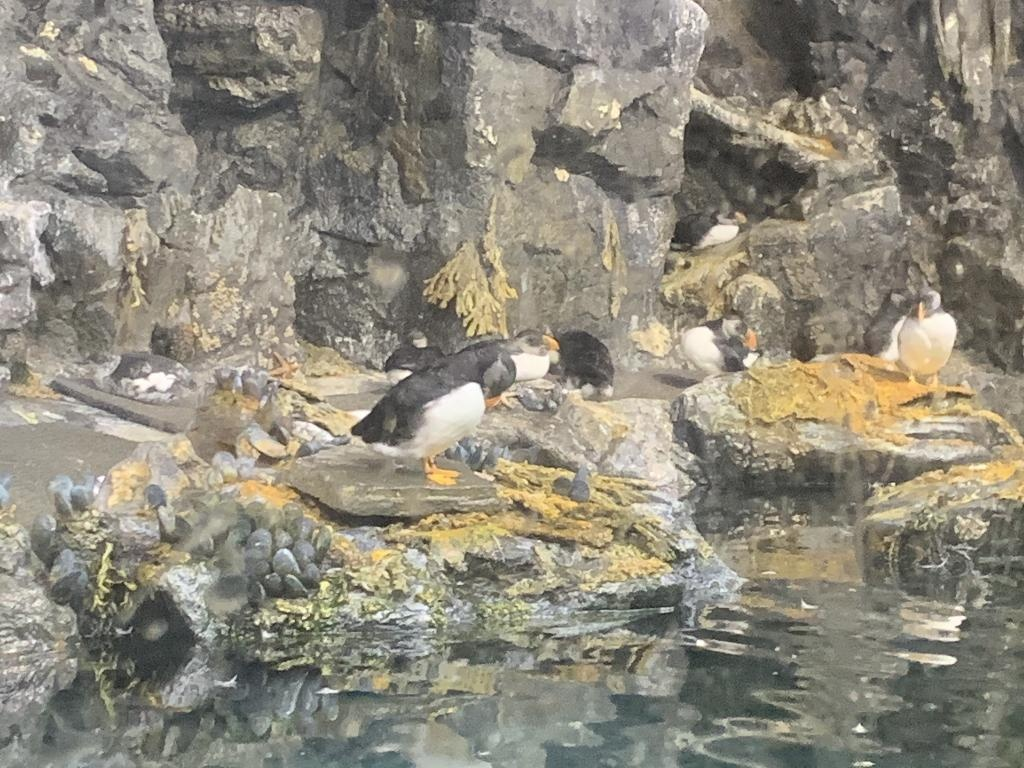puffin: (348, 354, 504, 492), (434, 329, 560, 399), (893, 286, 961, 392), (680, 310, 764, 384), (668, 202, 748, 258), (860, 284, 914, 364), (384, 328, 446, 391)
